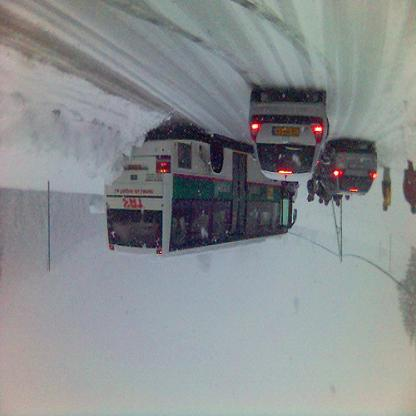bus: (105, 135, 302, 261)
car: (248, 90, 331, 185), (312, 144, 378, 200)
person: (404, 162, 416, 217), (380, 169, 394, 215), (307, 182, 317, 205), (333, 196, 344, 210), (324, 195, 333, 209), (317, 194, 325, 207)
